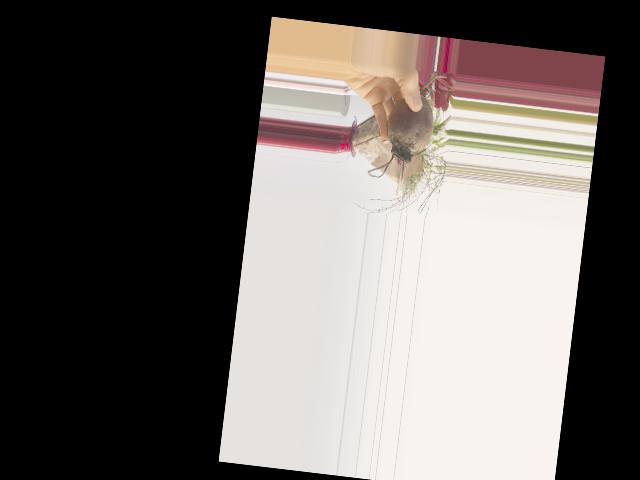beet: (367, 68, 446, 184)
